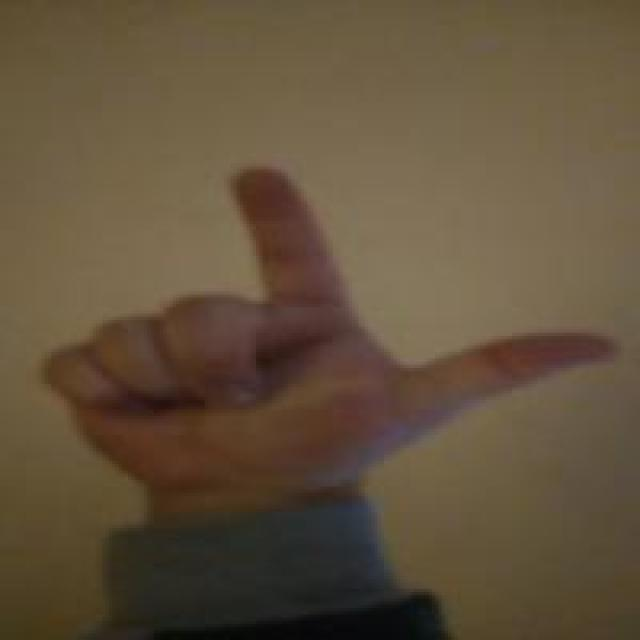L: (35, 155, 627, 491)
